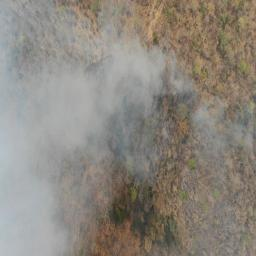Low smoke: (1, 23, 165, 248)
